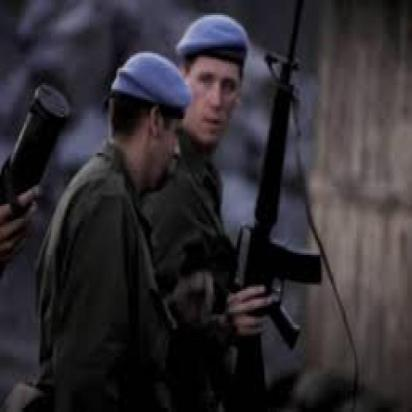Gun: (225, 0, 323, 412)
